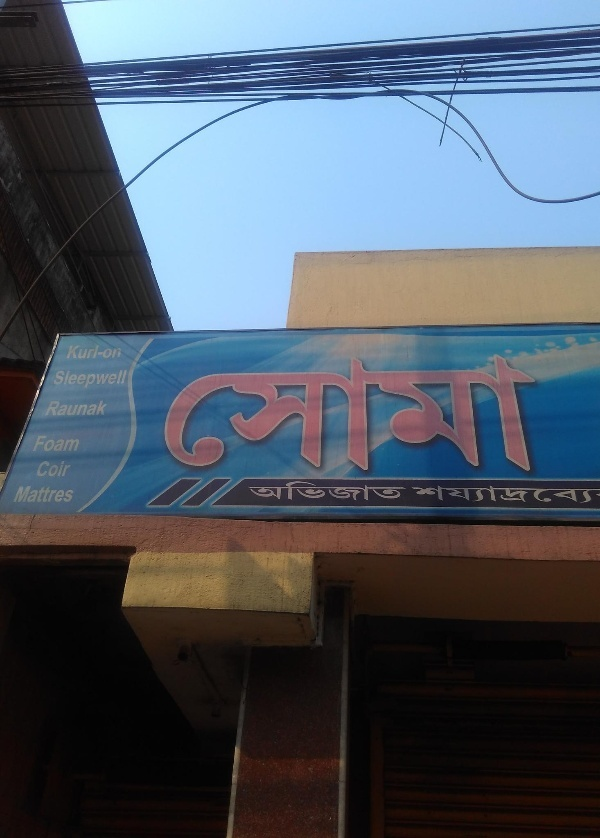text: (193, 353, 208, 475), (209, 353, 224, 475), (225, 353, 240, 475), (241, 353, 256, 475), (257, 353, 272, 475), (273, 353, 288, 475), (289, 353, 304, 475), (305, 353, 320, 475), (321, 353, 336, 475), (337, 353, 352, 475), (353, 353, 368, 475), (369, 353, 384, 475), (385, 353, 400, 475), (401, 353, 416, 475), (417, 353, 432, 475), (433, 353, 448, 475), (449, 353, 464, 475), (465, 353, 480, 475), (481, 353, 496, 475), (497, 353, 512, 475), (513, 353, 528, 475), (529, 353, 544, 475), (545, 353, 560, 475), (178, 353, 192, 475), (561, 353, 564, 475), (257, 480, 272, 503), (273, 480, 288, 503), (289, 480, 304, 503), (305, 480, 320, 503), (321, 480, 336, 503), (337, 480, 352, 503), (353, 480, 368, 503), (369, 480, 384, 503), (385, 480, 400, 503), (65, 434, 81, 454), (417, 485, 432, 505), (433, 485, 448, 505), (449, 485, 464, 505), (465, 485, 480, 505), (481, 485, 496, 505), (497, 485, 512, 505), (513, 485, 528, 505), (529, 485, 544, 505), (545, 485, 560, 505), (561, 485, 576, 505), (577, 485, 592, 505), (49, 434, 64, 454), (65, 369, 80, 389), (81, 369, 96, 389), (97, 369, 112, 389), (113, 369, 128, 389), (49, 460, 64, 478), (17, 486, 32, 503), (33, 486, 48, 503), (49, 486, 64, 503), (65, 400, 80, 417), (81, 400, 96, 417), (36, 434, 48, 454), (50, 400, 64, 417), (97, 400, 110, 417), (81, 346, 96, 360), (97, 346, 112, 360), (65, 486, 77, 503), (54, 369, 64, 389), (68, 346, 80, 360), (39, 460, 48, 478), (249, 480, 256, 503), (113, 346, 124, 360), (401, 480, 407, 503), (65, 460, 72, 478), (593, 485, 599, 505), (412, 485, 416, 505), (14, 486, 16, 503), (129, 369, 130, 389)
